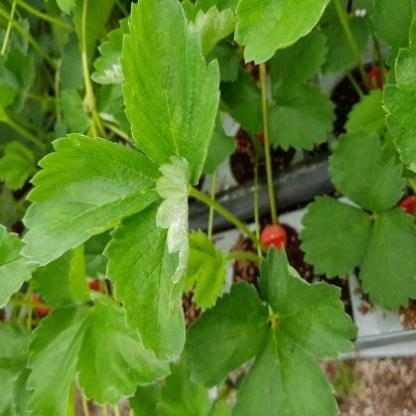Strawberry_Powdery_Mildew_Leaf: (99, 156, 192, 360), (90, 0, 242, 87)
